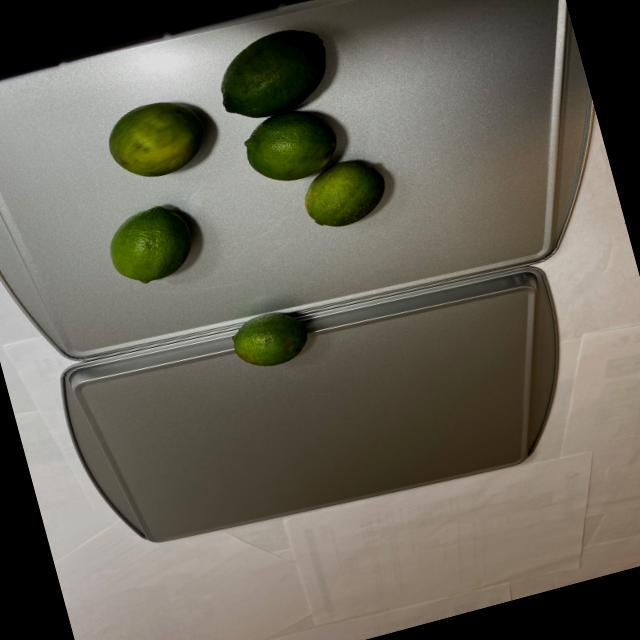lemon: (59, 8, 418, 296), (224, 298, 319, 376)
